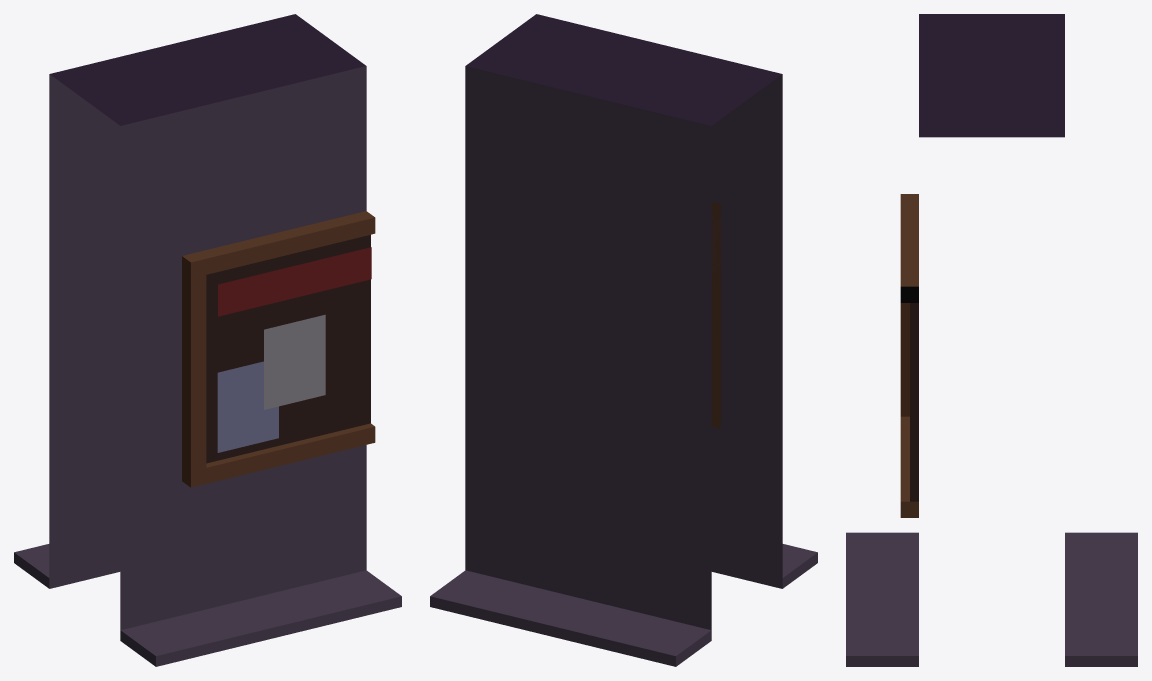
Rendered from wall_bulletin1.dae.
The picture shows the model from 3 angles, left to right: view 1: azimuth 30°, elevation 25°; view 2: azimuth 150°, elevation 25°; view 3: azimuth 270°, elevation 25°; orthographic projection. The views are drawn at different scales.
Visible parts, largest first — view 1: wall_bulletin1_MSH; view 2: wall_bulletin1_MSH; view 3: wall_bulletin1_MSH.
Boxes of the visible parts, x1,y1,x2,y2 form: wall_bulletin1_MSH: [14, 14, 401, 666]; wall_bulletin1_MSH: [430, 14, 817, 666]; wall_bulletin1_MSH: [846, 14, 1137, 666].
Bounding box in the file's own units: 1 × 2 × 1.
